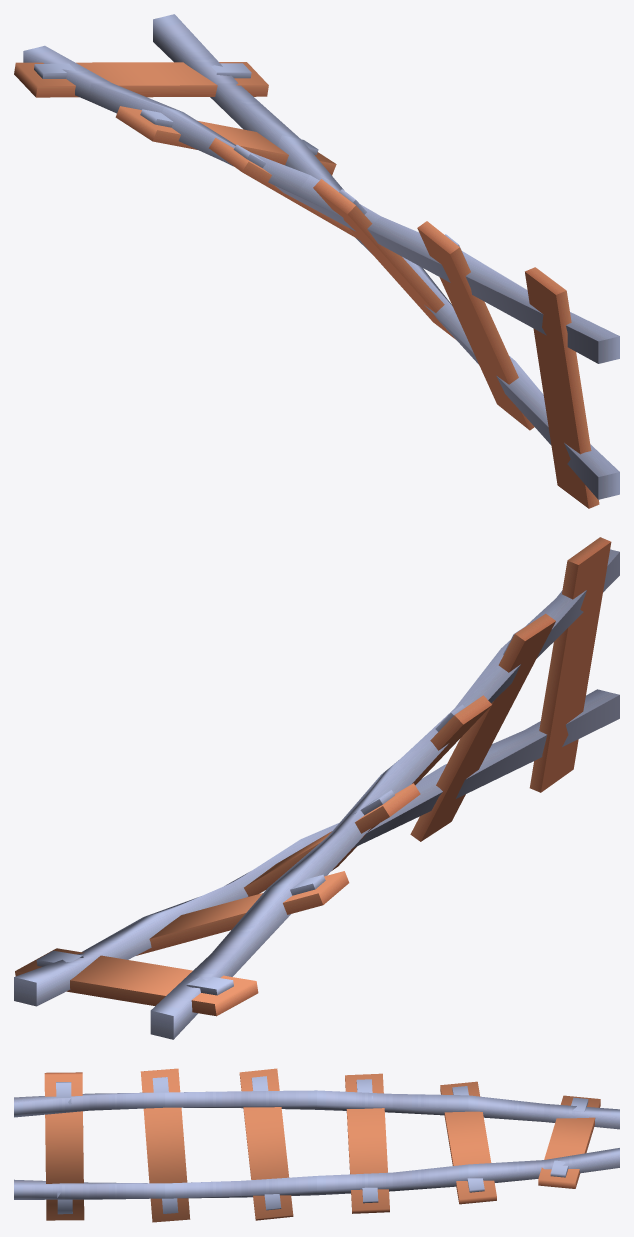
File: kenney-train-railroad-damaged-straight-skew-left-side.glb
3 renders of one model, top to bottom at view 1: azimuth 30°, elevation 25°; view 2: azimuth 150°, elevation 25°; view 3: azimuth 270°, elevation 25°, orthographic. The views are drawn at different scales.
Visible parts, largest first — view 1: railroad-damaged-straight-skew-left-side; view 2: railroad-damaged-straight-skew-left-side; view 3: railroad-damaged-straight-skew-left-side.
Part boxes in pixels (left/top/right/bottom): railroad-damaged-straight-skew-left-side: left=14, top=14, right=619, bottom=508; railroad-damaged-straight-skew-left-side: left=14, top=537, right=619, bottom=1039; railroad-damaged-straight-skew-left-side: left=14, top=1068, right=619, bottom=1222.
Bounding box in the file's own units: 1.02 × 0.9981 × 4.
Materials: 1 (1 with a texture image).
